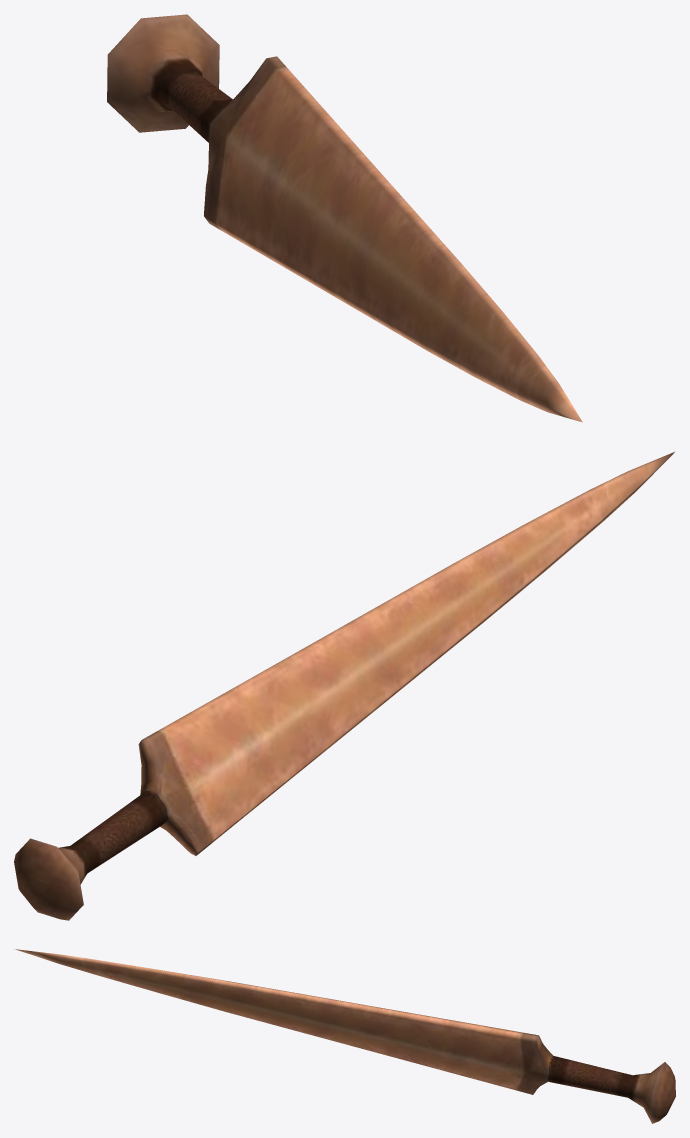
File: rider-weapon-slice-bronzeweapons.glb
The picture shows the model from 3 angles, top to bottom: view 1: azimuth 30°, elevation 25°; view 2: azimuth 150°, elevation 25°; view 3: azimuth 270°, elevation 25°; orthographic projection. The views are drawn at different scales.
Bounding box in the file's own units: 0.2543 × 0.2037 × 1.05.
Materials: 1 (1 with a texture image).
